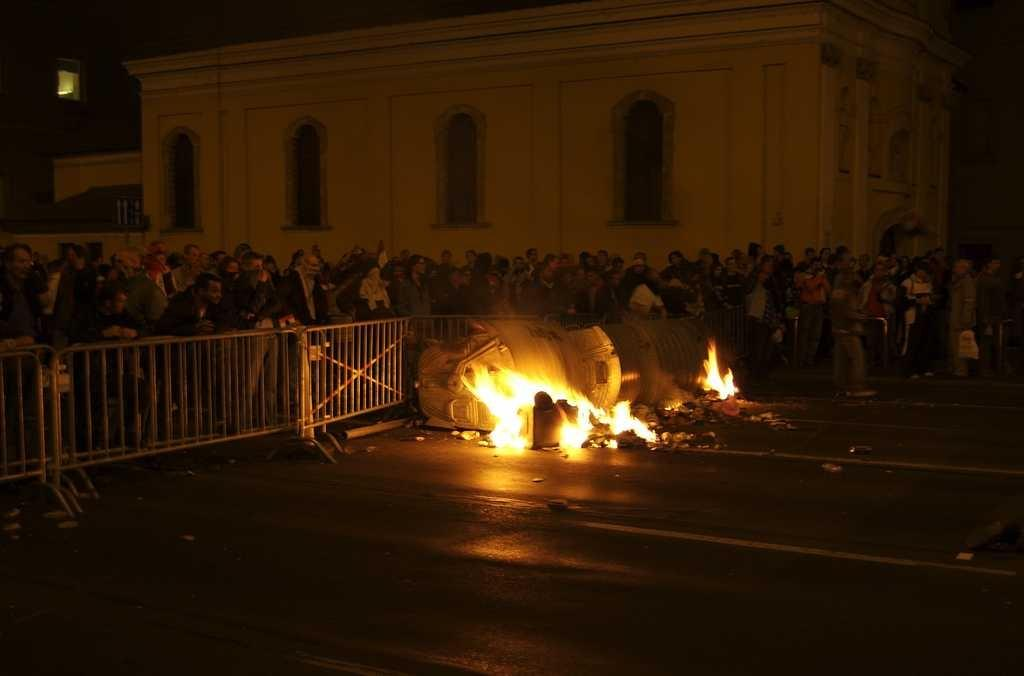fire: (492, 378, 530, 452), (705, 357, 733, 392), (562, 425, 588, 450), (610, 407, 637, 430)
